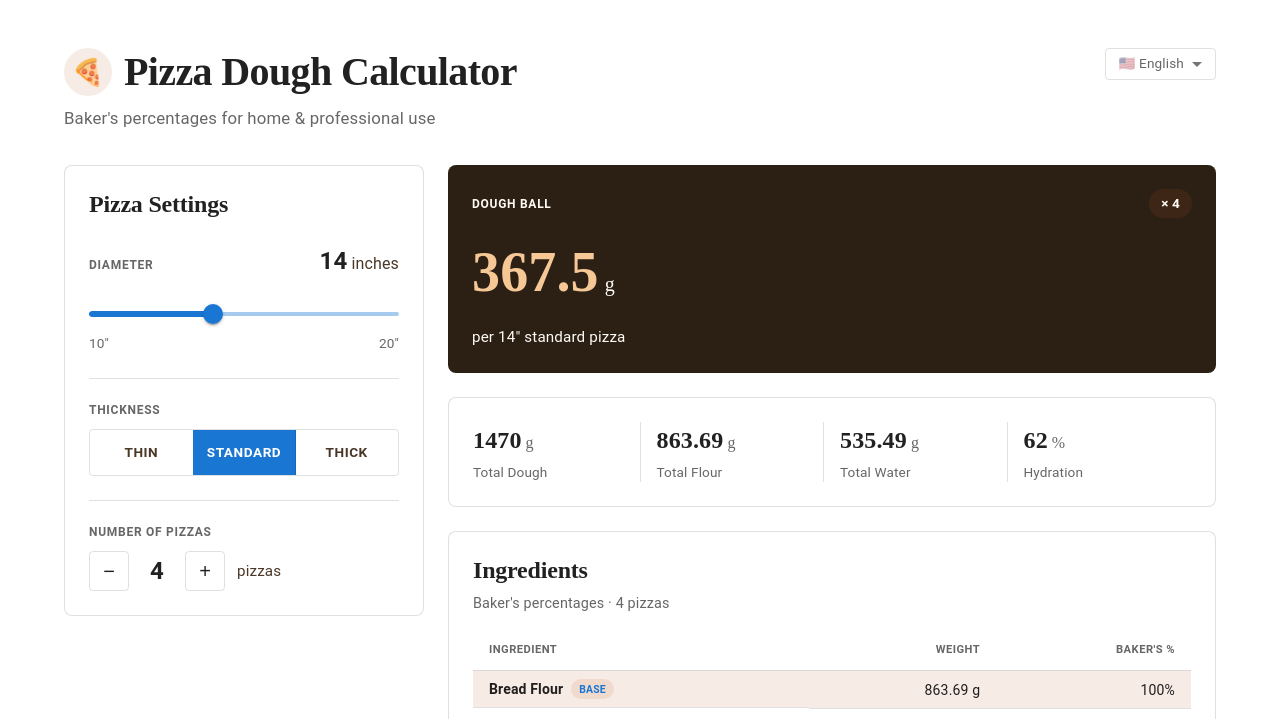
Test case: <App /> › switches all localized content to Spanish without changing calculated results when Español is selected
The width and height of the screenshot is (1280, 719).
Press Arrowright Arrowright
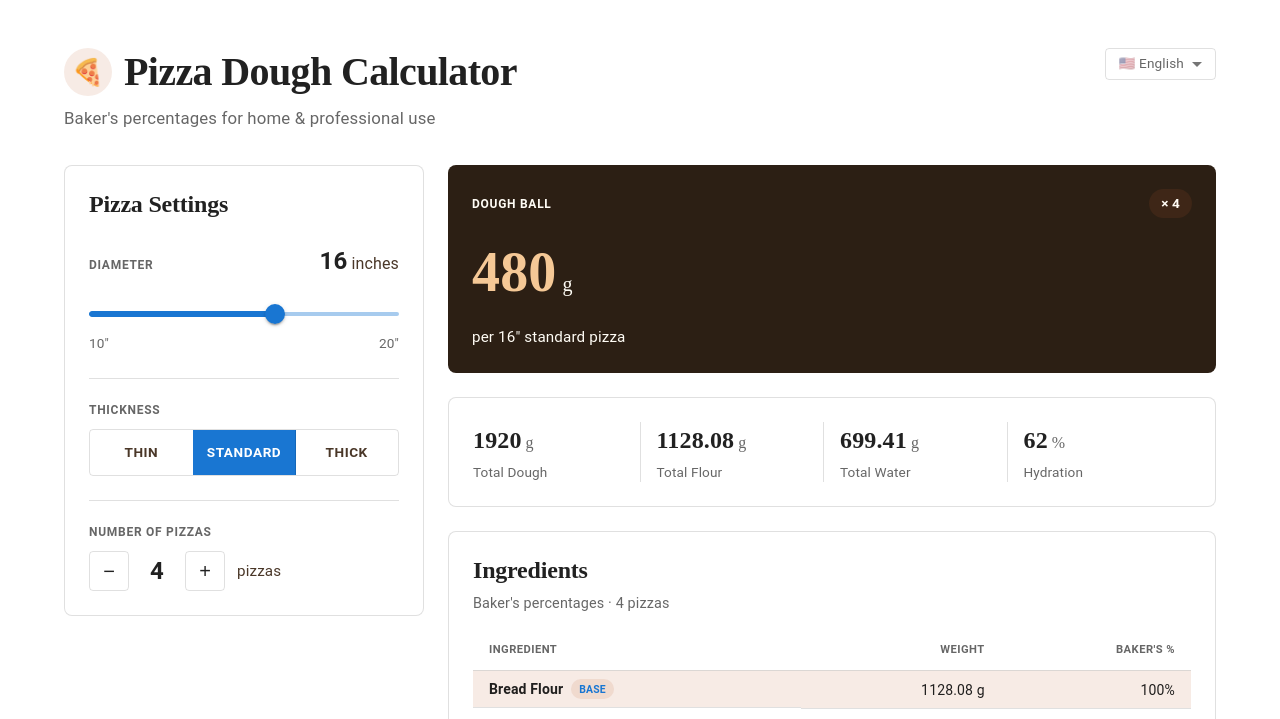
Click the dropdown.
click(1151, 63)  # box [1118,55,1184,71]
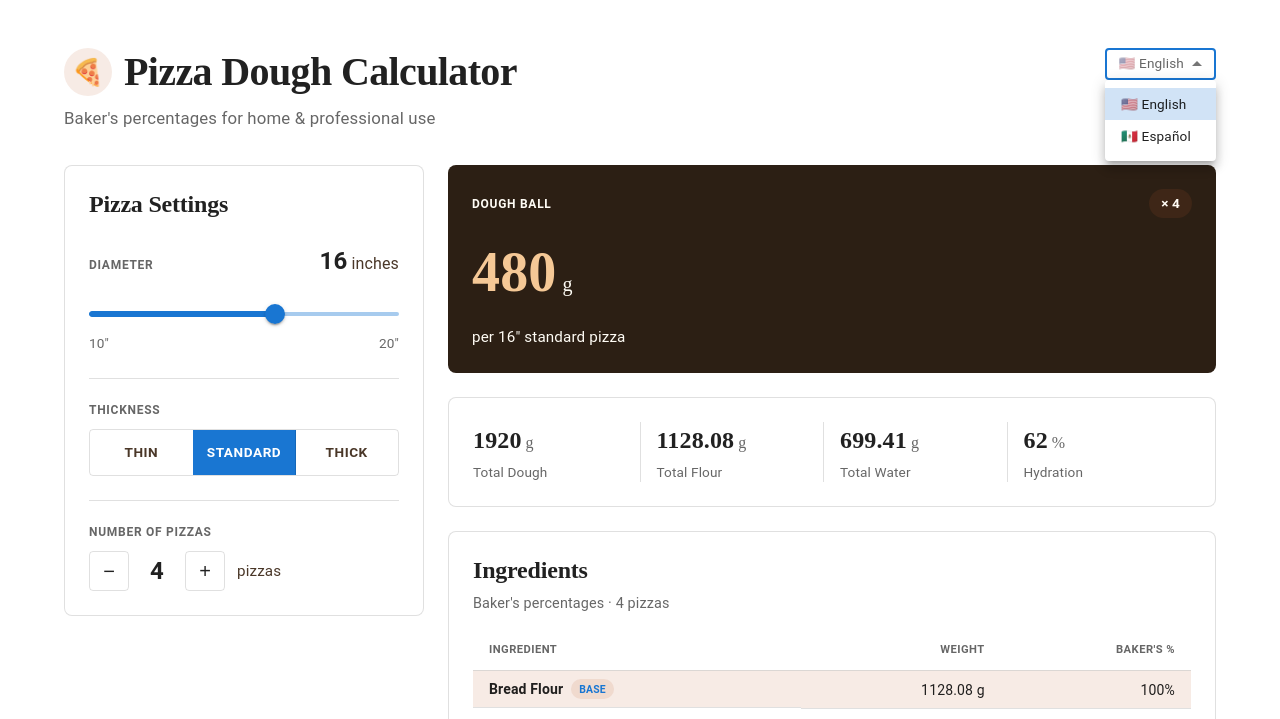
Click the option "🇲🇽 Español".
click(1156, 136)  # box [1121,128,1191,144]
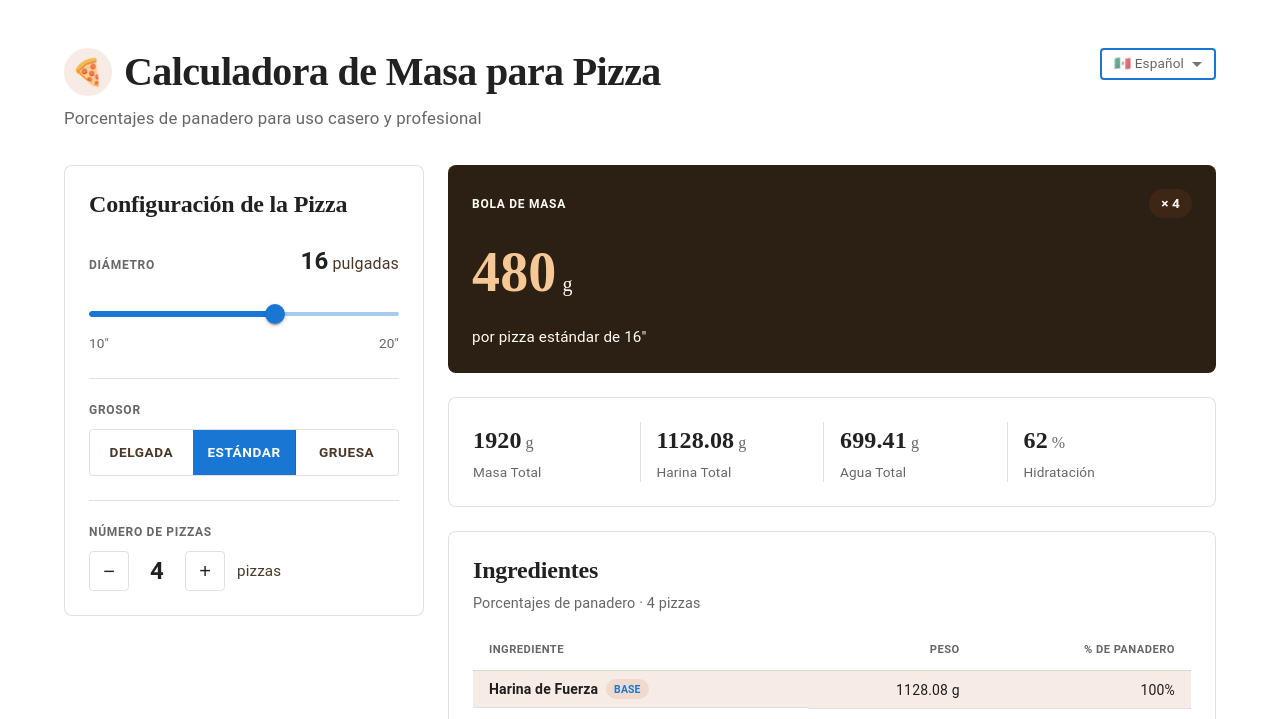
Check: the heading "Calculadora de Masa para Pizza" is shown, box [124,49,661,95]
Check: the heading "Configuración de la Pizza" is shown, box [89,191,347,217]
Check: the button "Estándar" is shown, box [193,430,296,475]
